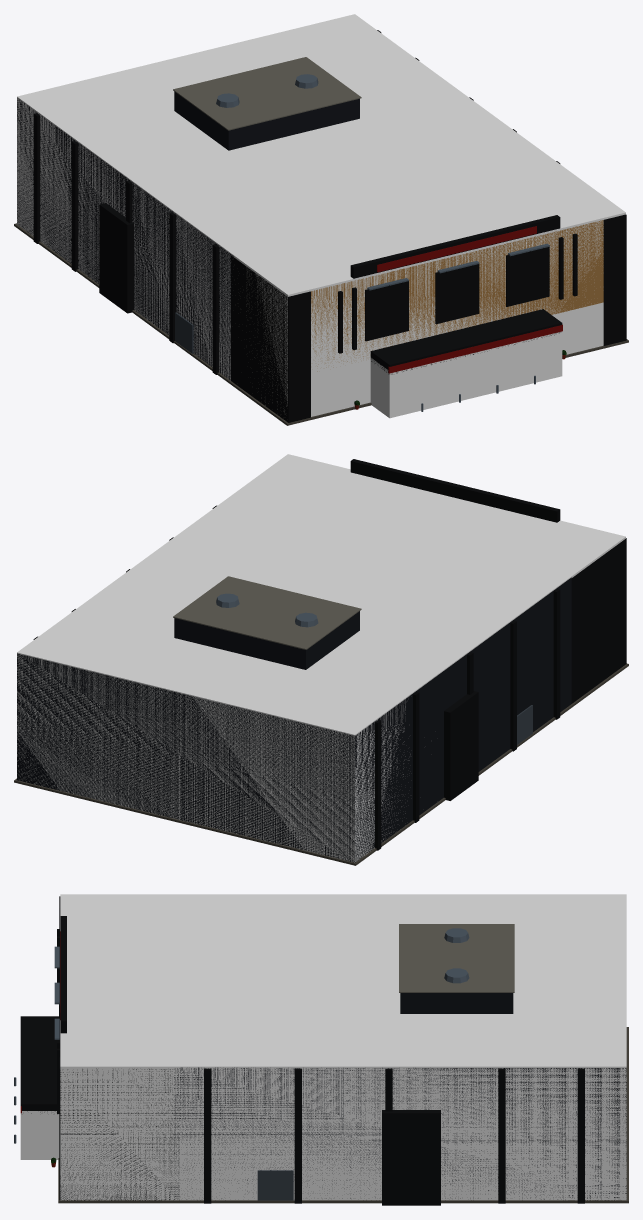
File: B20_multiplex.glb
3 views of the same model, one above another, from view 1: azimuth 30°, elevation 25°; view 2: azimuth 150°, elevation 25°; view 3: azimuth 270°, elevation 25° (orthographic). The views are drawn at different scales.
Visible parts, largest first — view 1: COL_Main, LOD0, COL_Verandah; view 2: COL_Main, LOD0; view 3: COL_Main, LOD0, COL_Verandah.
Boxes of the visible parts, left/top/right/bottom form: COL_Main: left=17, top=14, right=625, bottom=416; LOD0: left=14, top=30, right=628, bottom=425; COL_Verandah: left=370, top=331, right=562, bottom=418; COL_Main: left=17, top=454, right=625, bottom=862; LOD0: left=14, top=459, right=628, bottom=865; COL_Main: left=60, top=894, right=626, bottom=1200; LOD0: left=14, top=896, right=628, bottom=1205; COL_Verandah: left=20, top=1111, right=59, bottom=1159.
Size of what is drawn, in the model's own units: 37.4 by 15.9 by 54.3.
